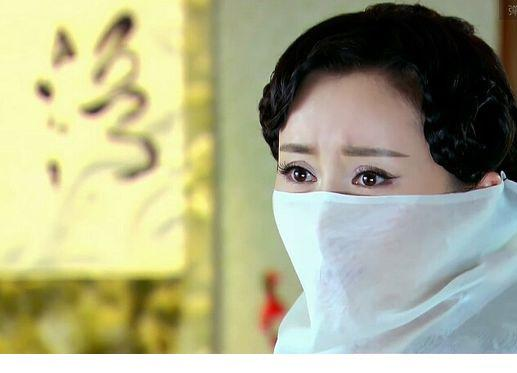OK: (269, 131, 441, 303)
